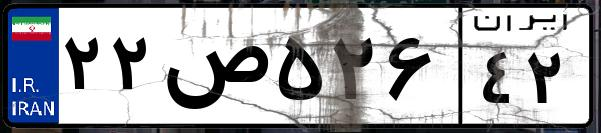2: (330, 28, 385, 110), (57, 26, 110, 100), (525, 38, 570, 115), (110, 28, 158, 98)
4: (475, 38, 525, 113)
5: (270, 28, 330, 110)
6: (385, 28, 445, 110)
ص: (158, 20, 270, 120)
